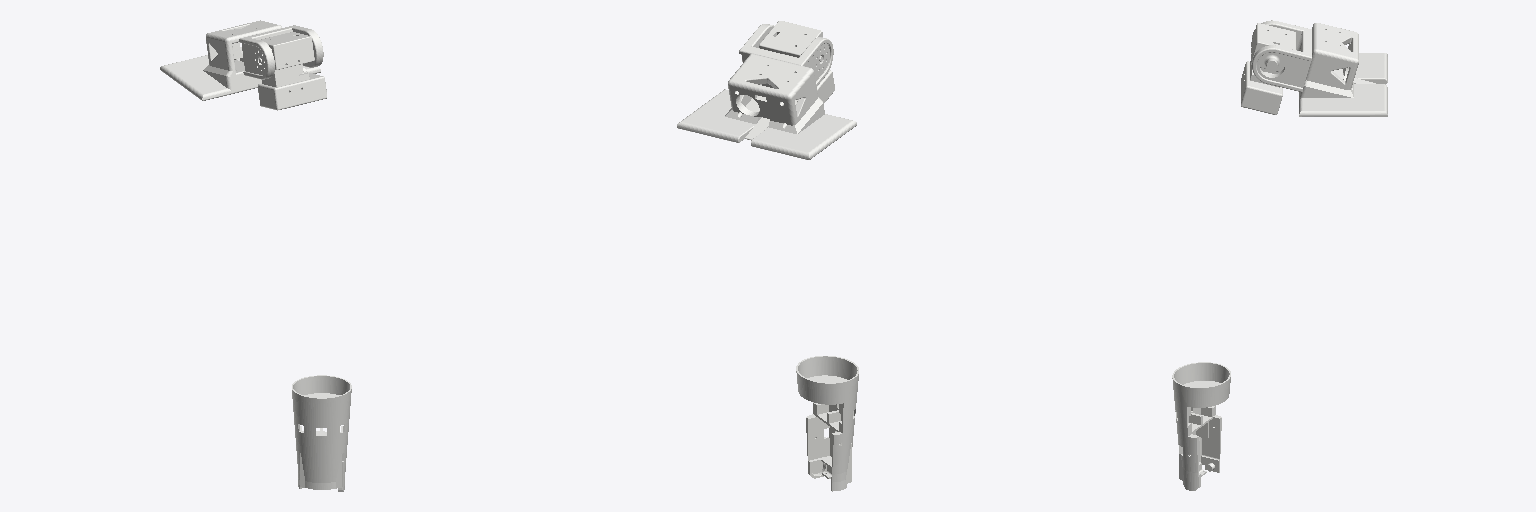
robot.urdf — harper_arm:
<?xml version="1.0"?>
<robot name="harper_arm">

  <!-- Materials -->
  <material name="ABS_Plastic">
    <color rgba="0.965 0.965 0.953 1.0"/>
  </material>

  <link name="base_link">
    <inertial>
      <origin xyz="0.029187 0.026141 0.016333" rpy="0 0 0"/>
      <mass value="0.216148"/>
      <inertia ixx="1.911689e-04" ixy="1.217393e-06" ixz="6.875221e-07"
               iyy="3.586378e-04" iyz="1.276434e-05" izz="4.108880e-04"/>
    </inertial>
    <visual>
      <origin xyz="0.000000 0.000000 0.000000" rpy="0 0 0"/>
      <geometry>
        <mesh filename="package://harper_arm_description/meshes/harper_arm/base_link.dae" scale="1 1 1"/>
      </geometry>
      <material name="ABS_Plastic"/>
    </visual>
    <collision>
      <origin xyz="0.000000 0.000000 0.000000" rpy="0 0 0"/>
      <geometry>
        <mesh filename="package://harper_arm_description/meshes/harper_arm/base_link_collision.stl" scale="0.01 0.01 0.01"/>
      </geometry>
    </collision>
  </link>

  <link name="ubracket_link">
    <inertial>
      <origin xyz="-0.001692 -0.016243 0.000000" rpy="0 0 0"/>
      <mass value="0.056802"/>
      <inertia ixx="2.770726e-05" ixy="-1.975149e-06" ixz="1.073252e-13"
               iyy="5.139242e-05" iyz="-1.551957e-13" izz="5.866256e-05"/>
    </inertial>
    <visual>
      <origin xyz="-0.127800 0.002450 -0.136700" rpy="0 0 0"/>
      <geometry>
        <mesh filename="package://harper_arm_description/meshes/harper_arm/ubracket_link.dae" scale="1 1 1"/>
      </geometry>
      <material name="ABS_Plastic"/>
    </visual>
    <collision>
      <origin xyz="-0.127800 0.002450 -0.136700" rpy="0 0 0"/>
      <geometry>
        <mesh filename="package://harper_arm_description/meshes/harper_arm/ubracket_link_collision.stl" scale="0.01 0.01 0.01"/>
      </geometry>
    </collision>
  </link>

  <link name="abduction_link">
    <inertial>
      <origin xyz="0.033769 0.000011 -0.020333" rpy="0 0 0"/>
      <mass value="0.170550"/>
      <inertia ixx="1.127913e-04" ixy="-4.833191e-09" ixz="5.136684e-06"
               iyy="1.389815e-04" iyz="6.006518e-08" izz="7.305519e-05"/>
    </inertial>
    <visual>
      <origin xyz="-0.093300 0.039250 -0.136700" rpy="0 0 0"/>
      <geometry>
        <mesh filename="package://harper_arm_description/meshes/harper_arm/abduction_link.dae" scale="1 1 1"/>
      </geometry>
      <material name="ABS_Plastic"/>
    </visual>
    <collision>
      <origin xyz="-0.093300 0.039250 -0.136700" rpy="0 0 0"/>
      <geometry>
        <mesh filename="package://harper_arm_description/meshes/harper_arm/abduction_link_collision.stl" scale="0.01 0.01 0.01"/>
      </geometry>
    </collision>
  </link>

  <link name="shoulder_rot_link">
    <inertial>
      <origin xyz="0.048728 -0.078593 -0.074581" rpy="0 0 0"/>
      <mass value="0.470274"/>
      <inertia ixx="9.964337e-04" ixy="1.649744e-05" ixz="2.954947e-05"
               iyy="1.023795e-03" iyz="-2.257510e-04" izz="4.815695e-04"/>
    </inertial>
    <visual>
      <origin xyz="0.000000 0.000000 0.000000" rpy="0 0 0"/>
      <geometry>
        <mesh filename="package://harper_arm_description/meshes/harper_arm/shoulder_rot_link.dae" scale="1 1 1"/>
      </geometry>
      <material name="ABS_Plastic"/>
    </visual>
    <collision>
      <origin xyz="0.000000 0.000000 0.000000" rpy="0 0 0"/>
      <geometry>
        <mesh filename="package://harper_arm_description/meshes/harper_arm/shoulder_rot_link_collision.stl" scale="0.01 0.01 0.01"/>
      </geometry>
    </collision>
  </link>

  <link name="elbow_forearm_link">
    <inertial>
      <origin xyz="0.042958 -0.002857 0.080307" rpy="0 0 0"/>
      <mass value="0.623764"/>
      <inertia ixx="2.469378e-03" ixy="-2.608289e-06" ixz="-6.585970e-05"
               iyy="2.472785e-03" iyz="-1.032511e-04" izz="4.512478e-04"/>
    </inertial>
    <visual>
      <origin xyz="0.041000 0.152500 -0.012500" rpy="0 0 0"/>
      <geometry>
        <mesh filename="package://harper_arm_description/meshes/harper_arm/elbow_forearm_link.dae" scale="1 1 1"/>
      </geometry>
      <material name="ABS_Plastic"/>
    </visual>
    <collision>
      <origin xyz="0.041000 0.152500 -0.012500" rpy="0 0 0"/>
      <geometry>
        <mesh filename="package://harper_arm_description/meshes/harper_arm/elbow_forearm_link_collision.stl" scale="0.01 0.01 0.01"/>
      </geometry>
    </collision>
  </link>

  <link name="forearm_front_link">
    <inertial>
      <origin xyz="-0.045198 0.000346 -0.009446" rpy="0 0 0"/>
      <mass value="0.077289"/>
      <inertia ixx="3.638935e-05" ixy="1.519260e-06" ixz="-4.440843e-06"
               iyy="9.483507e-05" iyz="-2.736881e-07" izz="1.067445e-04"/>
    </inertial>
    <visual>
      <origin xyz="-0.161425 -0.000000 0.000000" rpy="0 0 0"/>
      <geometry>
        <mesh filename="package://harper_arm_description/meshes/harper_arm/forearm_front_link.dae" scale="1 1 1"/>
      </geometry>
      <material name="ABS_Plastic"/>
    </visual>
    <collision>
      <origin xyz="-0.161425 -0.000000 0.000000" rpy="0 0 0"/>
      <geometry>
        <mesh filename="package://harper_arm_description/meshes/harper_arm/forearm_front_link_collision.stl" scale="0.01 0.01 0.01"/>
      </geometry>
    </collision>
  </link>

  <joint name="shoulder_flexion_joint" type="revolute">
    <parent link="base_link"/>
    <child link="ubracket_link"/>
    <origin xyz="0.044850 -0.007541 0.039906" rpy="-0.261799 -0.000000 -0.000000"/>
    <axis xyz="-0.000000 1.000000 -0.000000"/>
    <limit lower="-3.141593" upper="1.570796" effort="100.0" velocity="1.00"/>
  </joint>

  <joint name="shoulder_abduction_joint" type="revolute">
    <parent link="ubracket_link"/>
    <child link="abduction_link"/>
    <origin xyz="-0.034700 -0.036800 -0.000000" rpy="-0.000000 0.000000 0.000000"/>
    <axis xyz="-1.000000 0.000000 -0.000000"/>
    <limit lower="-0.261799" upper="3.141593" effort="100.0" velocity="1.00"/>
  </joint>

  <joint name="shoulder_rotation_joint" type="continuous">
    <parent link="abduction_link"/>
    <child link="shoulder_rot_link"/>
    <origin xyz="-0.010250 0.054163 -0.035894" rpy="0.261799 -0.000000 0.000000"/>
    <axis xyz="0.000000 0.258819 0.965926"/>
    <limit effort="100.0" velocity="1.00"/>
  </joint>

  <joint name="elbow_flexion_joint" type="revolute">
    <parent link="shoulder_rot_link"/>
    <child link="elbow_forearm_link"/>
    <origin xyz="0.089014 -0.119601 -0.186783" rpy="3.141593 0.000000 -3.141593"/>
    <axis xyz="1.000000 0.000000 0.000000"/>
    <limit lower="-1.396263" upper="0.610865" effort="100.0" velocity="1.00"/>
  </joint>

  <joint name="forearm_rotation_joint" type="continuous">
    <parent link="elbow_forearm_link"/>
    <child link="forearm_front_link"/>
    <origin xyz="0.041862 0.000337 0.159713" rpy="-2.102137 1.570796 0.000000"/>
    <axis xyz="-1.000000 -0.000000 -0.000000"/>
    <limit effort="100.0" velocity="1.00"/>
  </joint>

  <!-- ROS 2 control: generated generic system -->
  <ros2_control name="harper_arm_system" type="system">
    <hardware>
      <plugin>mock_components/GenericSystem</plugin>
      <param name="cmd_topic">sim/harper_arm_system/cmd</param>
      <param name="state_topic">sim/harper_arm_system/state</param>
    </hardware>

    <joint name="elbow_flexion_joint">
      <command_interface name="position"/>
      <command_interface name="velocity"/>
      <state_interface name="position">
        <param name="initial_value">0.0</param>
      </state_interface>
      <state_interface name="velocity"/>
      <state_interface name="effort"/>
    </joint>
    <joint name="forearm_rotation_joint">
      <command_interface name="position"/>
      <command_interface name="velocity"/>
      <state_interface name="position">
        <param name="initial_value">0.0</param>
      </state_interface>
      <state_interface name="velocity"/>
      <state_interface name="effort"/>
    </joint>
    <joint name="shoulder_abduction_joint">
      <command_interface name="position"/>
      <command_interface name="velocity"/>
      <state_interface name="position">
        <param name="initial_value">0.0</param>
      </state_interface>
      <state_interface name="velocity"/>
      <state_interface name="effort"/>
    </joint>
    <joint name="shoulder_flexion_joint">
      <command_interface name="position"/>
      <command_interface name="velocity"/>
      <state_interface name="position">
        <param name="initial_value">0.0</param>
      </state_interface>
      <state_interface name="velocity"/>
      <state_interface name="effort"/>
    </joint>
    <joint name="shoulder_rotation_joint">
      <command_interface name="position"/>
      <command_interface name="velocity"/>
      <state_interface name="position">
        <param name="initial_value">0.0</param>
      </state_interface>
      <state_interface name="velocity"/>
      <state_interface name="effort"/>
    </joint>
  </ros2_control>

</robot>

--- What the picture shows (computed from the rendered views, not written in the file) ---
Views: 3 orthographic renders of the robot side by side, from view 1: azimuth 30°, elevation 25°; view 2: azimuth 150°, elevation 25°; view 3: azimuth 270°, elevation 25°.
Robot: harper_arm — 6 links, 5 joints (3 revolute, 2 continuous); root link base_link; default pose: every joint at zero.
Visible links, largest first — view 1: forearm_front_link, base_link, abduction_link, ubracket_link; view 2: base_link, forearm_front_link, ubracket_link, abduction_link; view 3: base_link, forearm_front_link, abduction_link, ubracket_link.
Boxes of the visible links, left/top/right/bottom form: forearm_front_link: left=292, top=375, right=351, bottom=491; base_link: left=160, top=20, right=320, bottom=100; abduction_link: left=258, top=32, right=326, bottom=110; ubracket_link: left=239, top=25, right=323, bottom=79; base_link: left=677, top=54, right=856, bottom=159; forearm_front_link: left=796, top=356, right=858, bottom=491; ubracket_link: left=739, top=24, right=833, bottom=87; abduction_link: left=759, top=21, right=834, bottom=103; base_link: left=1299, top=23, right=1387, bottom=116; forearm_front_link: left=1172, top=362, right=1230, bottom=490; abduction_link: left=1241, top=23, right=1295, bottom=114; ubracket_link: left=1252, top=20, right=1311, bottom=91.
Bounding box of the posed robot: 0.1549 × 0.2334 × 0.5361 m (x, y, z).
Meshes: 6 distinct files referenced, 4 mesh visuals loaded (4 Collada DAE); not drawn: 2 (reference not matched to a file when rendering).
